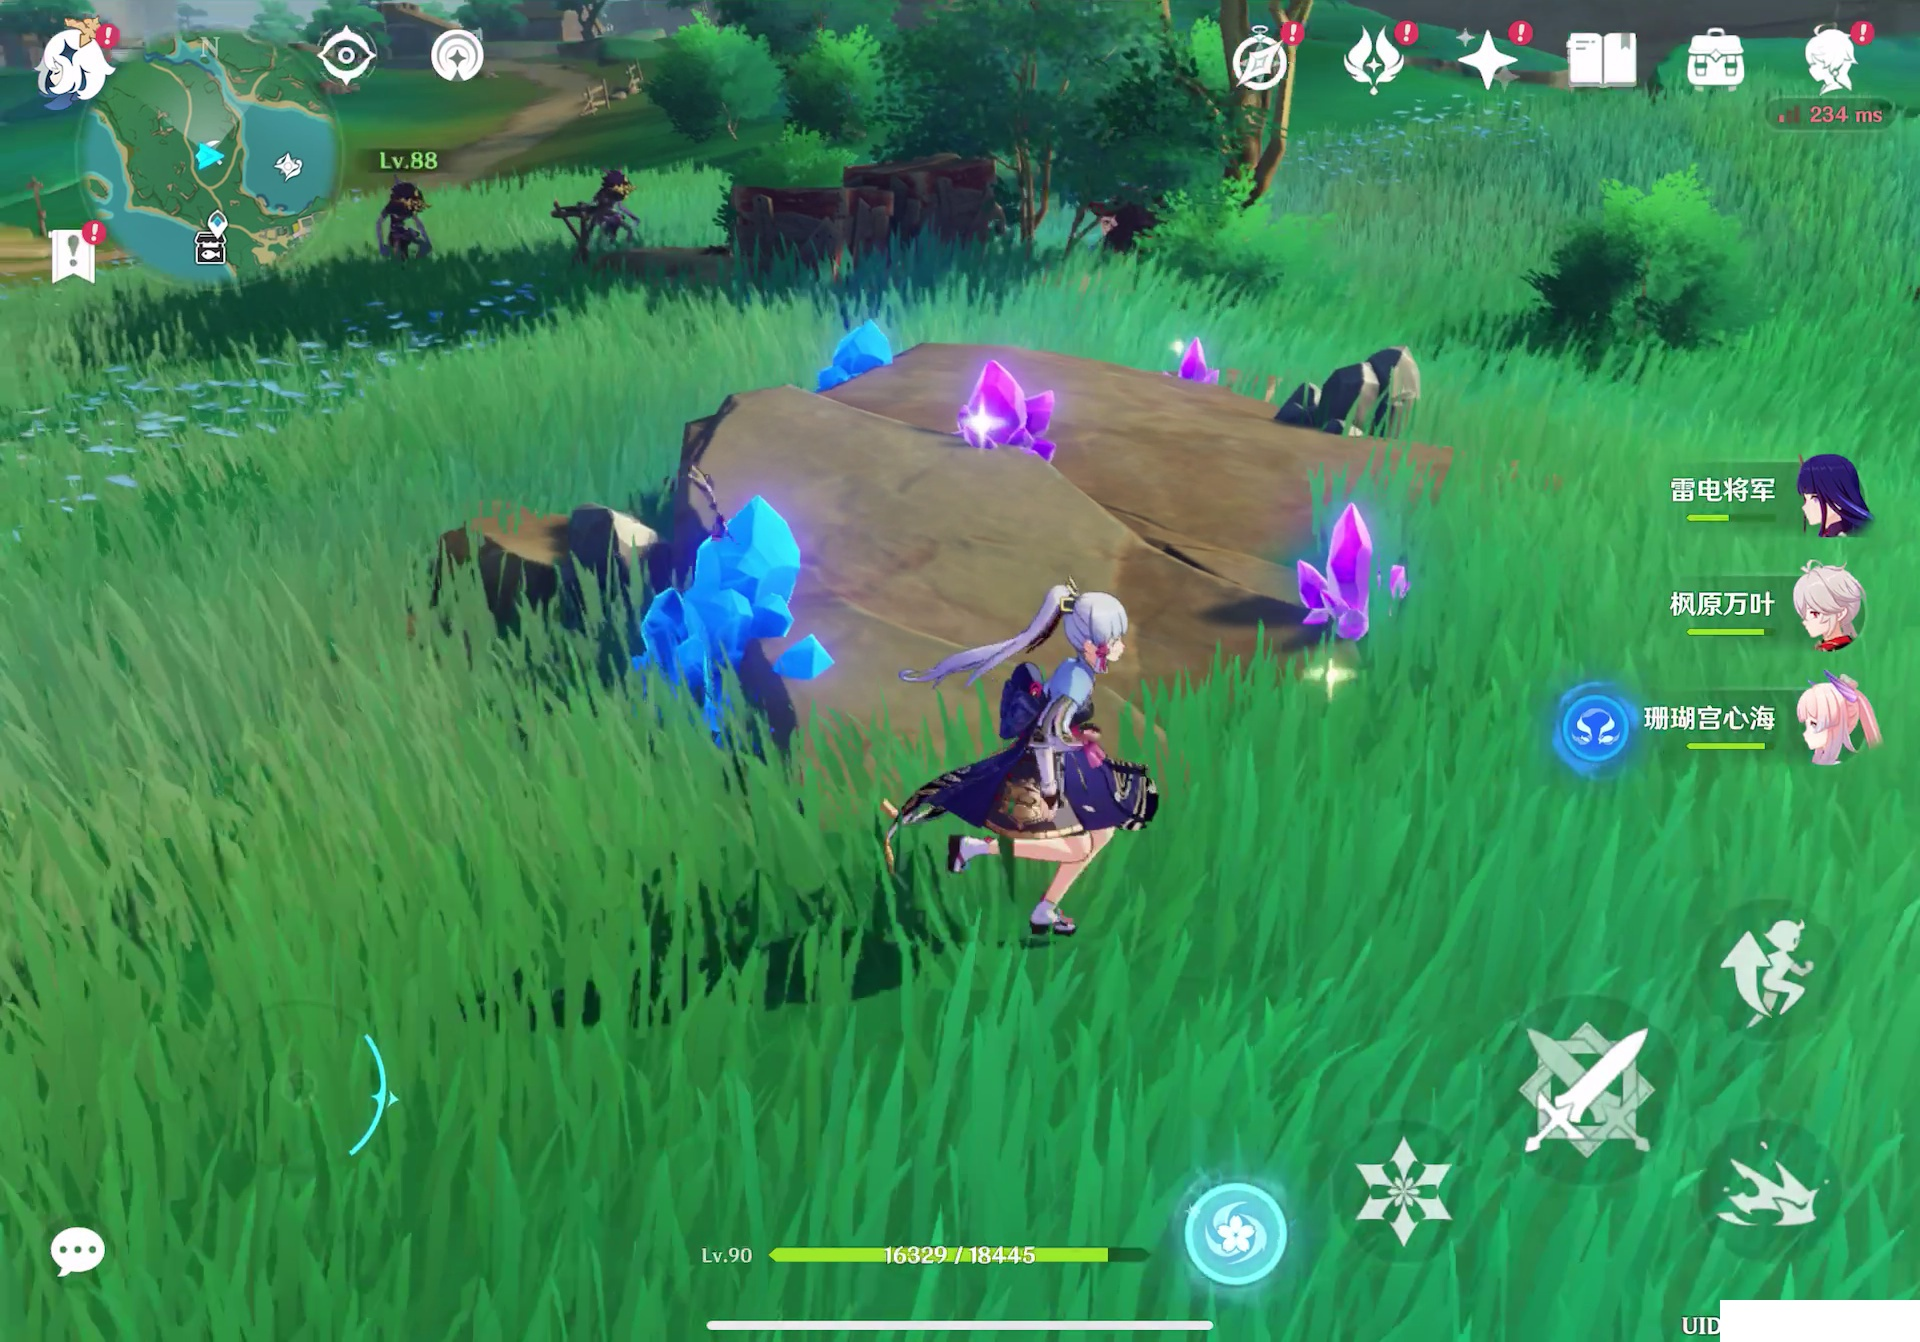丘丘人: (368, 179, 446, 267), (598, 169, 654, 249)
白铁矿石: (1269, 335, 1459, 439), (553, 503, 661, 591)
神里绫龟: (906, 562, 1180, 951)
紫矿石: (1293, 500, 1428, 659), (957, 365, 1067, 470), (1160, 325, 1223, 389)
蓝矿石: (605, 505, 851, 721), (816, 317, 913, 408)
